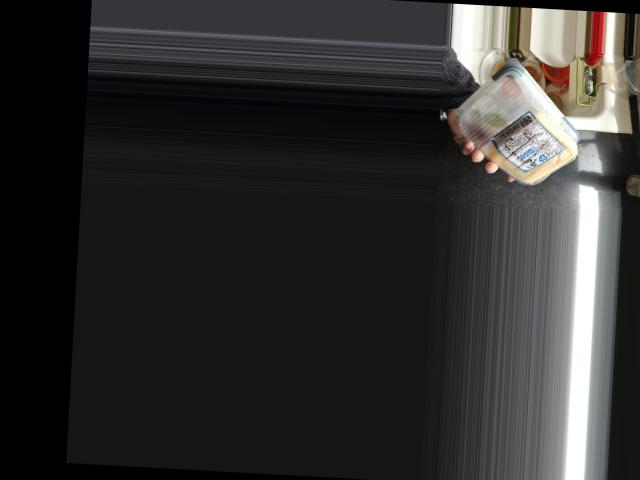cheese: (453, 73, 583, 180)
